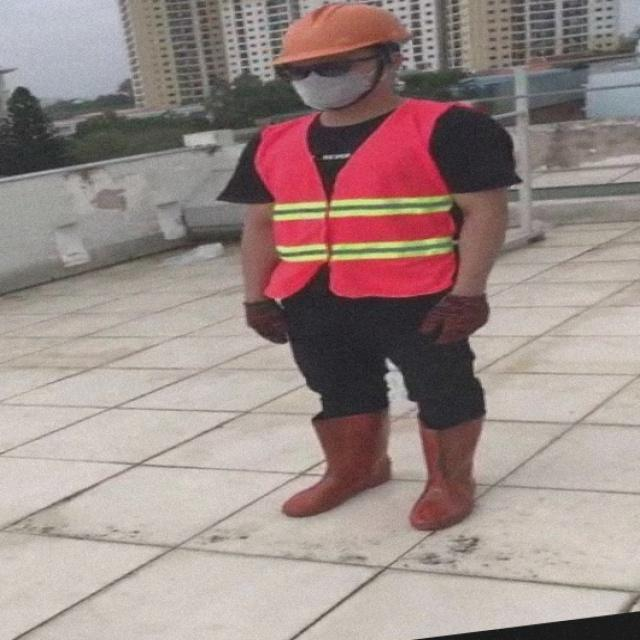Capacete: (273, 3, 410, 65)
Colete: (255, 99, 456, 298)
Oculos: (275, 56, 377, 80)
